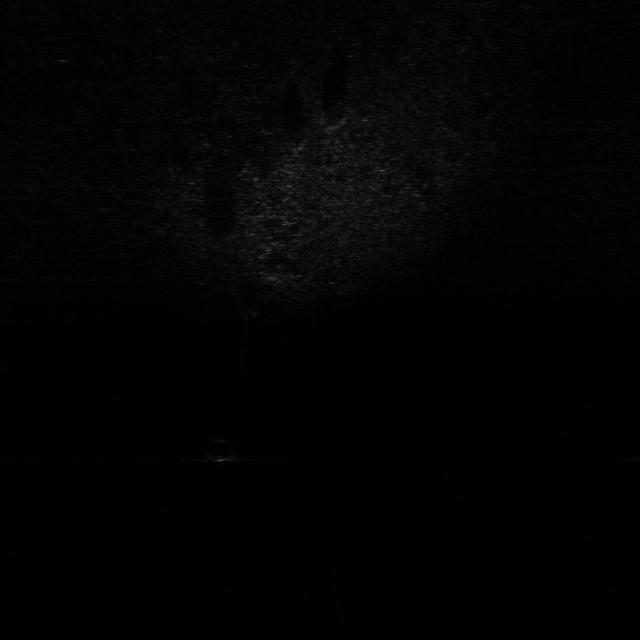ball: (203, 433, 244, 465)
